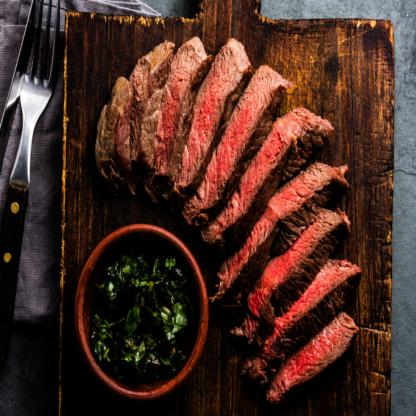Carne: (176, 71, 299, 226), (210, 164, 347, 302), (238, 209, 354, 340), (208, 112, 330, 236), (245, 258, 363, 386), (164, 49, 252, 187), (134, 36, 203, 180), (265, 314, 364, 409), (84, 84, 140, 187)
